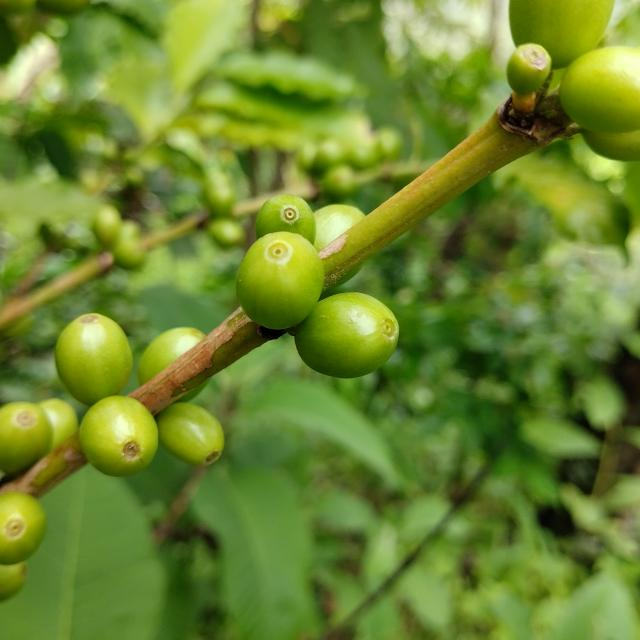green: (295, 292, 400, 378), (236, 231, 324, 329), (54, 313, 132, 406), (510, 0, 615, 68), (560, 45, 640, 132), (78, 396, 158, 477), (156, 403, 224, 466), (137, 327, 205, 385), (0, 402, 51, 474), (0, 492, 45, 566), (255, 194, 316, 243), (314, 204, 365, 251), (37, 399, 77, 450), (583, 129, 640, 161), (0, 563, 27, 603), (179, 381, 207, 402)
